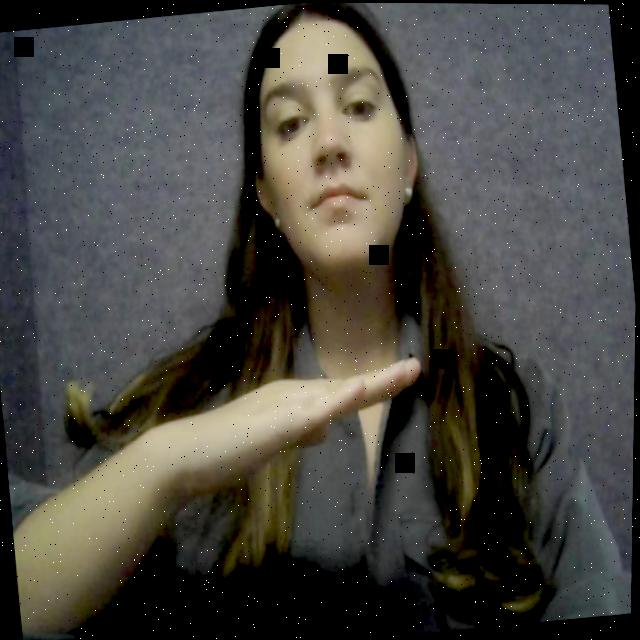Paper: (181, 340, 429, 486)
